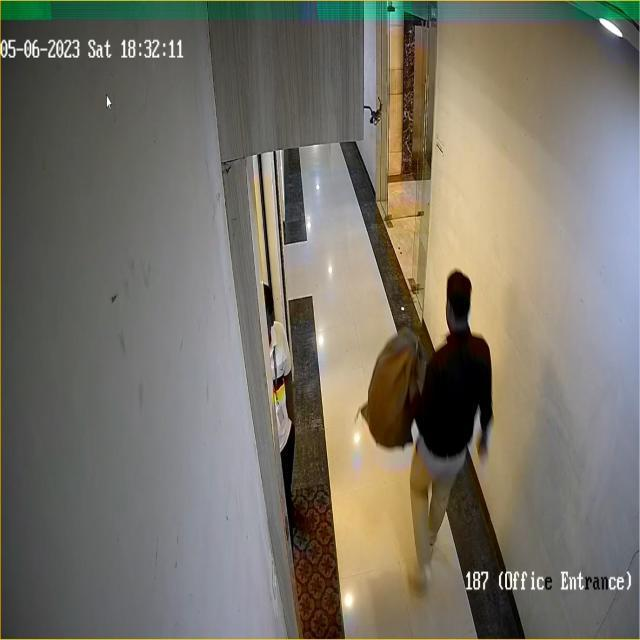gunny_bag: (356, 326, 424, 454)
